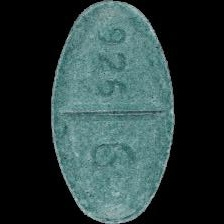0555-0926: (0, 0, 224, 224)
